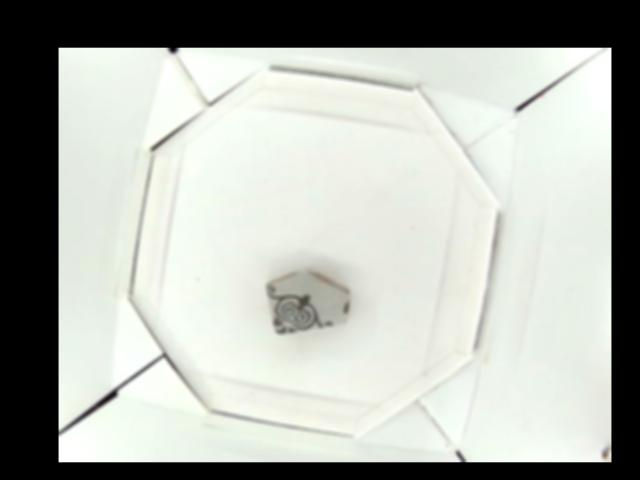China: (267, 268, 352, 337)
